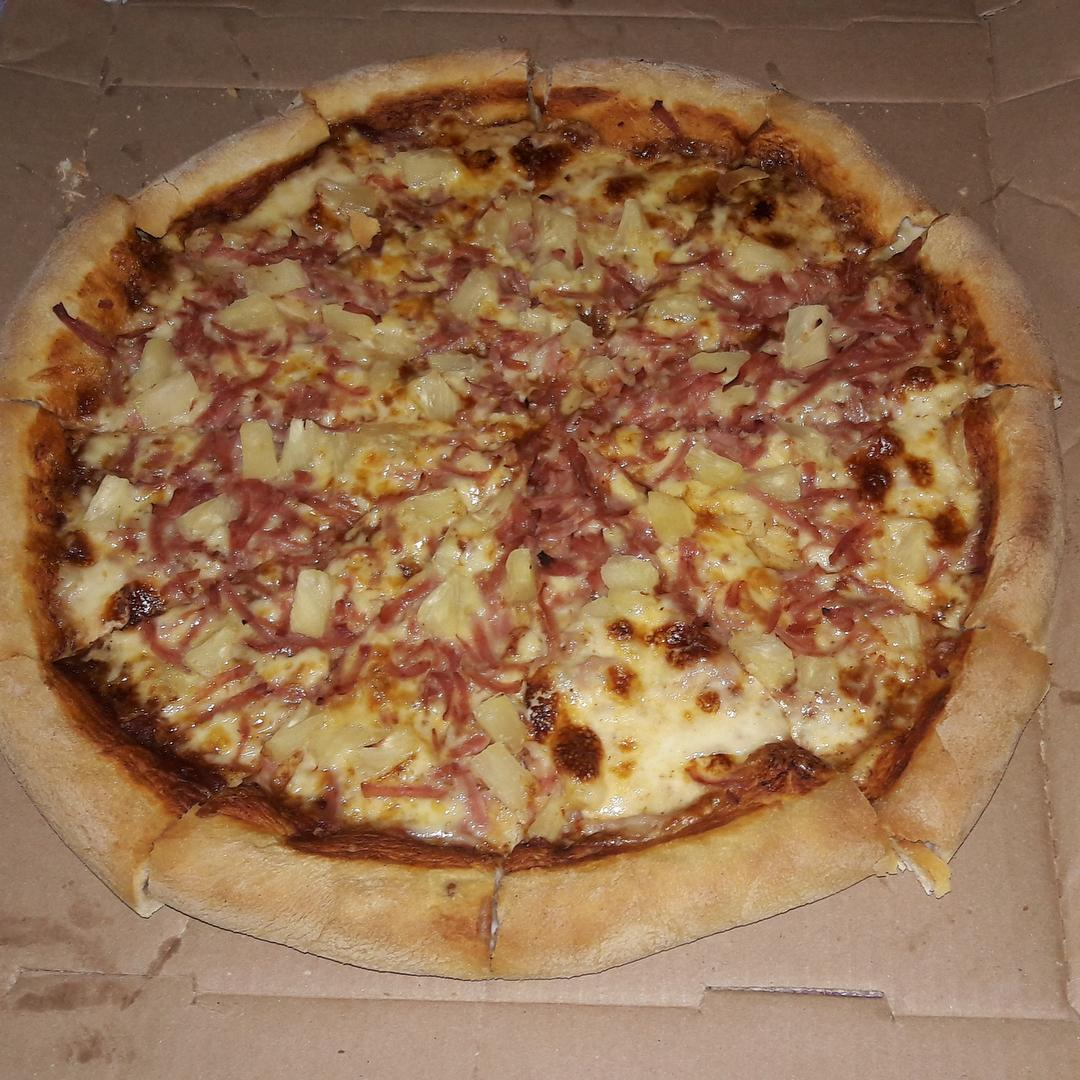Ham: (766, 498, 868, 651), (513, 402, 605, 568), (135, 560, 284, 659), (261, 637, 462, 709), (228, 471, 354, 567), (600, 347, 690, 472), (842, 295, 925, 386), (308, 261, 425, 315), (722, 267, 838, 318), (482, 329, 564, 396), (696, 404, 777, 463), (200, 374, 245, 476), (173, 311, 232, 379), (118, 429, 170, 477)
Pineapple: (266, 691, 378, 781), (425, 477, 530, 559), (336, 722, 427, 791), (420, 559, 489, 649), (469, 738, 536, 828), (277, 420, 379, 479), (729, 623, 798, 696), (287, 564, 347, 644), (78, 478, 165, 532), (128, 370, 210, 427), (466, 688, 532, 756), (882, 511, 937, 585), (776, 298, 832, 370), (438, 255, 497, 323), (461, 188, 538, 240), (582, 547, 669, 593), (637, 479, 698, 542), (528, 250, 613, 294), (190, 617, 247, 682), (182, 491, 257, 540), (236, 254, 312, 302), (395, 143, 467, 193), (388, 489, 471, 532), (431, 348, 501, 398), (128, 330, 192, 384), (310, 178, 397, 217), (395, 370, 464, 419), (499, 540, 545, 611), (527, 773, 571, 845), (610, 196, 660, 259), (677, 436, 744, 483), (215, 294, 281, 341), (238, 413, 279, 485), (636, 287, 703, 327), (314, 302, 380, 340), (873, 611, 924, 660), (749, 456, 806, 499), (685, 342, 750, 377), (793, 649, 837, 700), (370, 320, 425, 359), (531, 207, 578, 252), (355, 356, 404, 395)
Pizza: (0, 40, 1066, 991)
